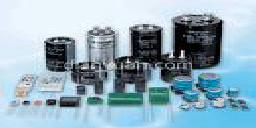Electrolytic-Capacitor: (171, 12, 229, 71), (129, 21, 169, 66), (85, 25, 124, 65), (44, 33, 80, 74), (149, 82, 177, 107), (198, 71, 222, 88), (59, 94, 86, 108), (211, 98, 227, 109)
